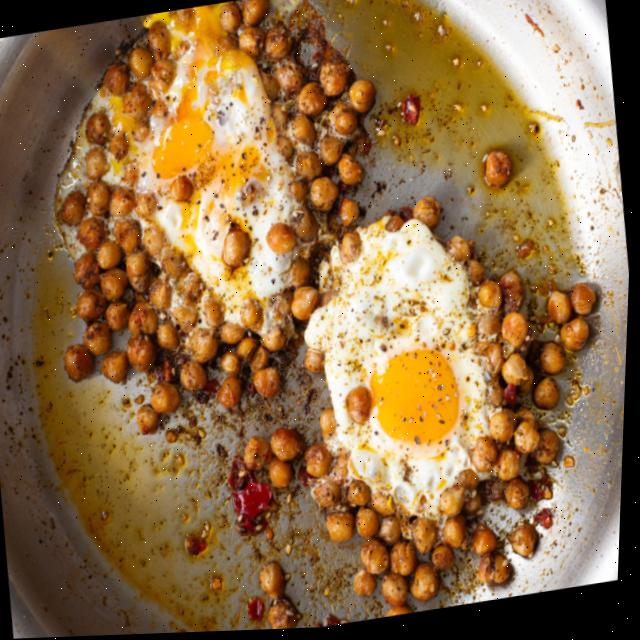Egg: (308, 219, 495, 522), (129, 6, 293, 321)
